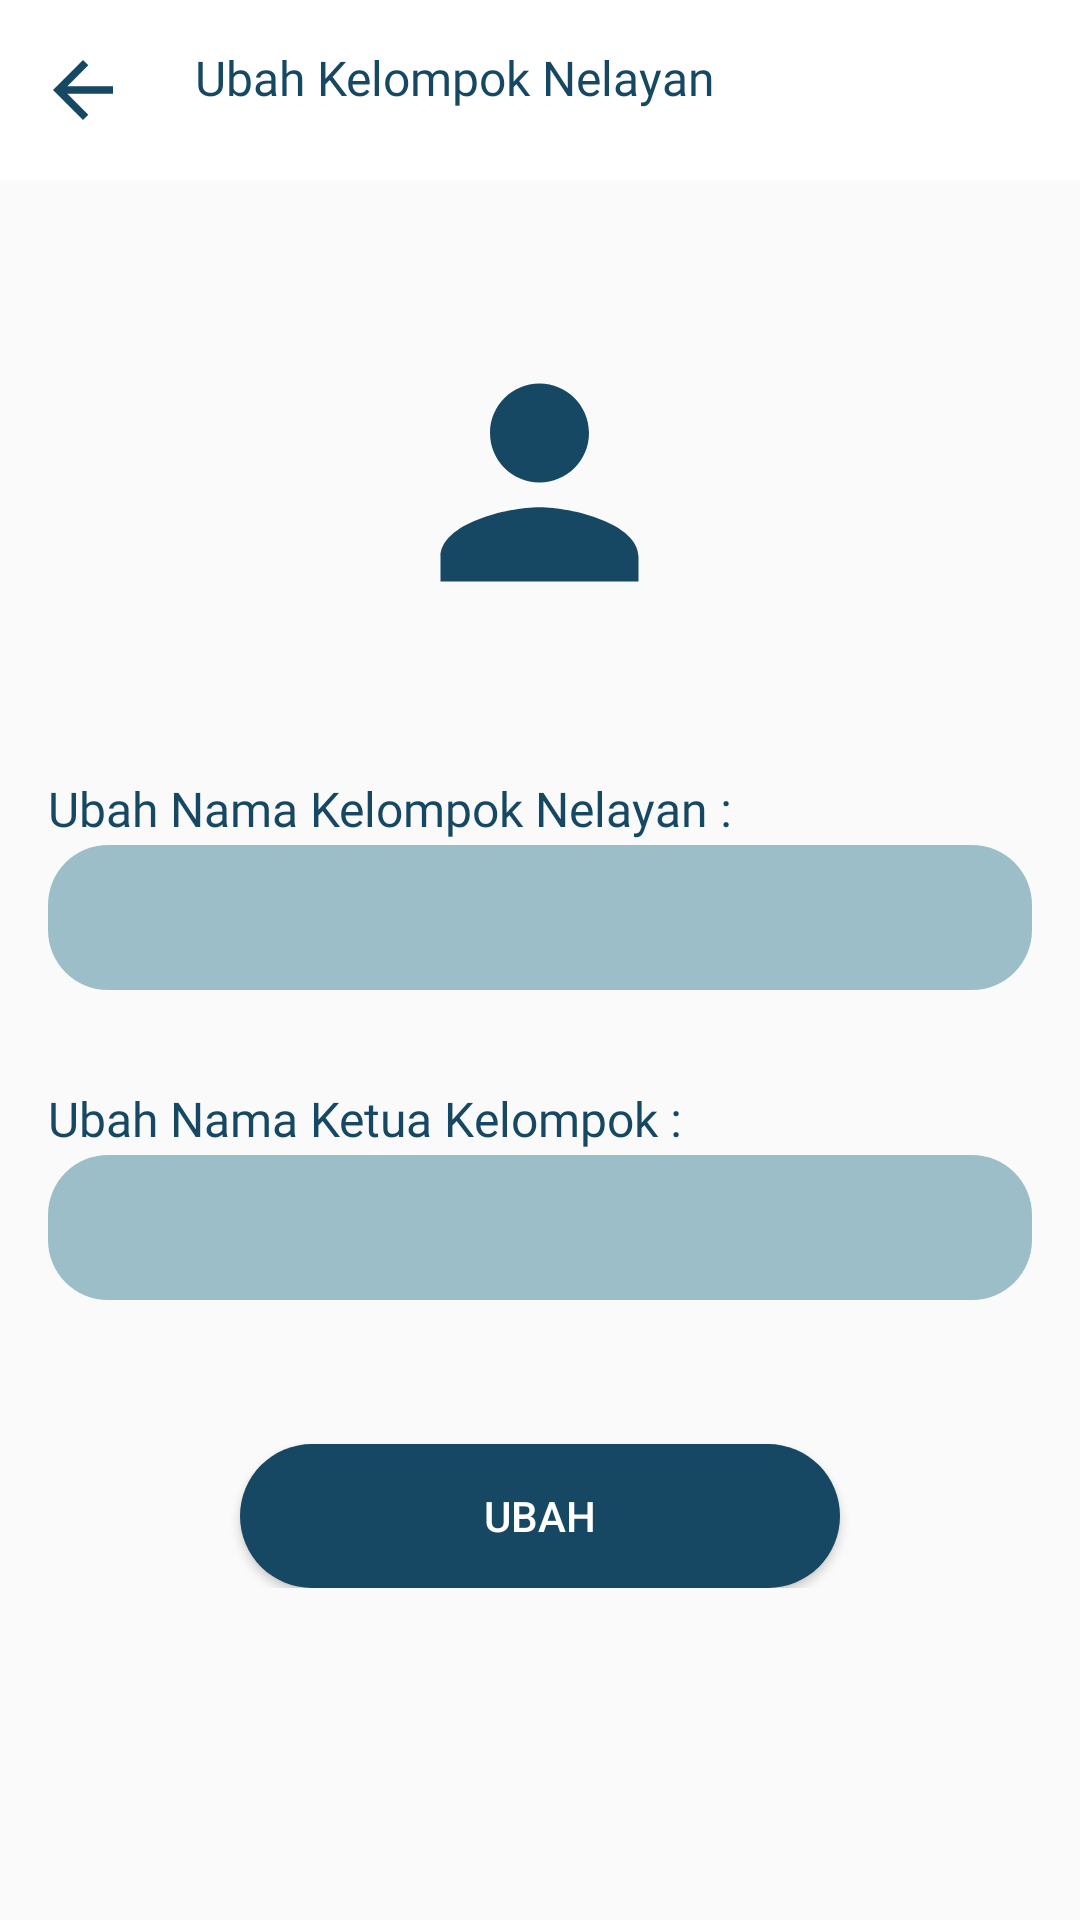

Named icons in this screenshot (1080px x 1920px) and their centers, point (x, y):
Back Icon: point (83, 90)
uname: point (539, 482)
